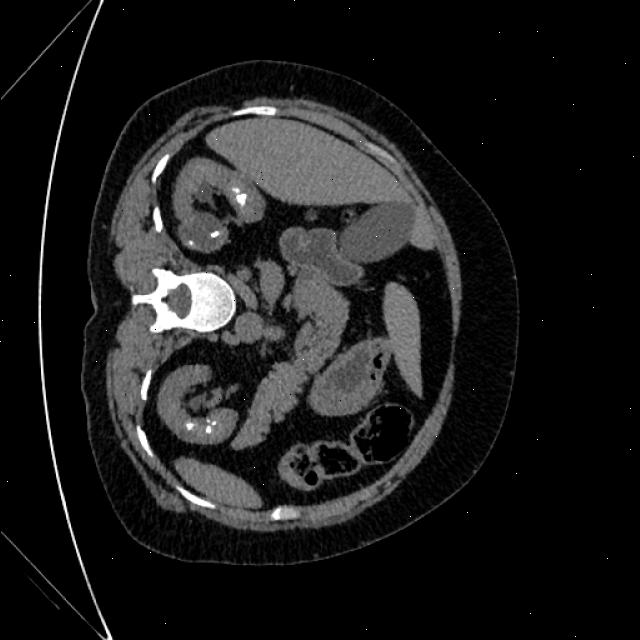kidneystone: (218, 226, 226, 244), (236, 194, 246, 206), (204, 425, 211, 432), (184, 424, 191, 430)
